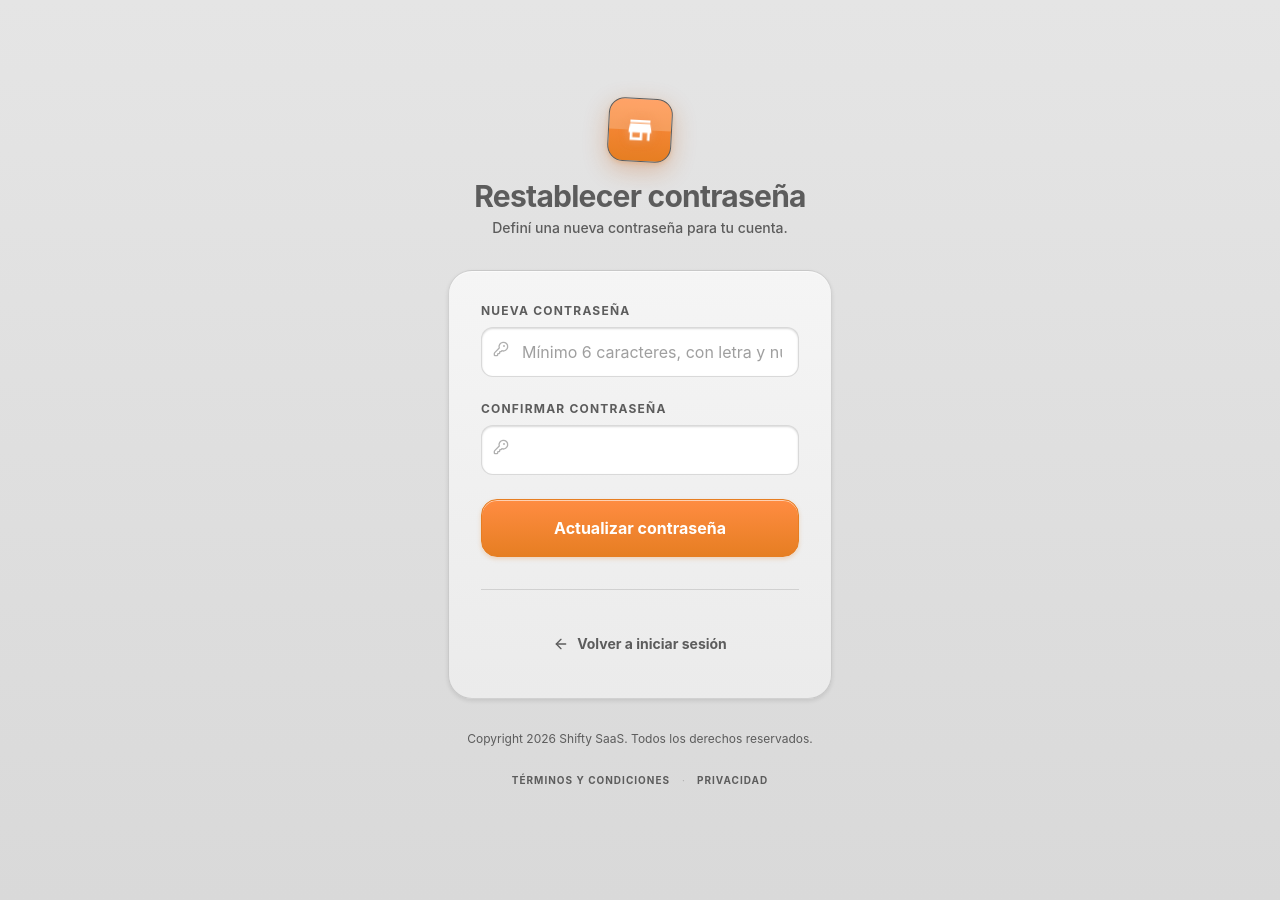
it: ResetPasswordPage › un 422 del servidor (clave común) muestra un texto útil, no el genérico
Type "password123" into the password field labelled "Nueva contraseña" at x=640, y=352, box [481,326,799,376]
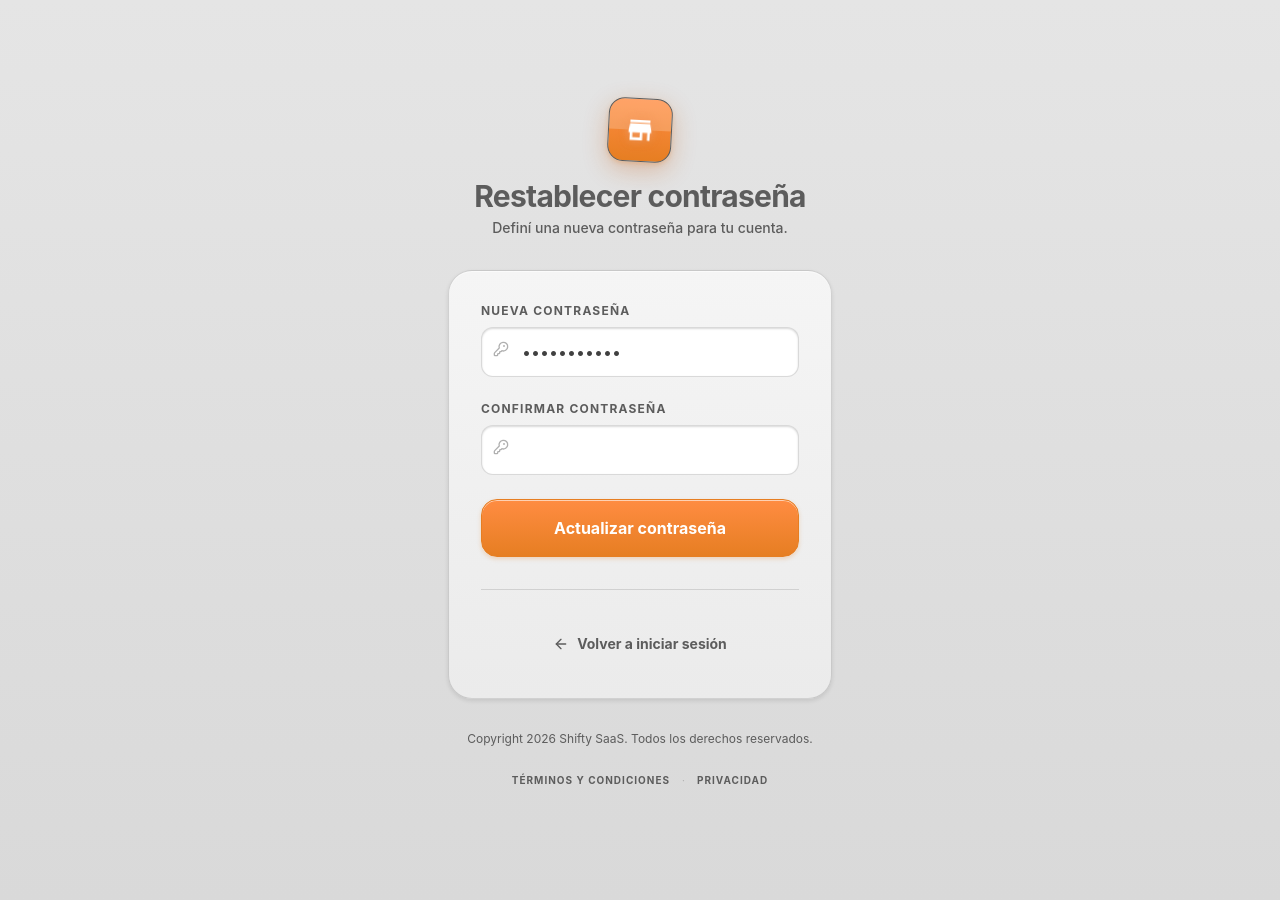
Type "password123" into the password field labelled "Confirmar contraseña" at x=640, y=450, box [481,424,799,474]
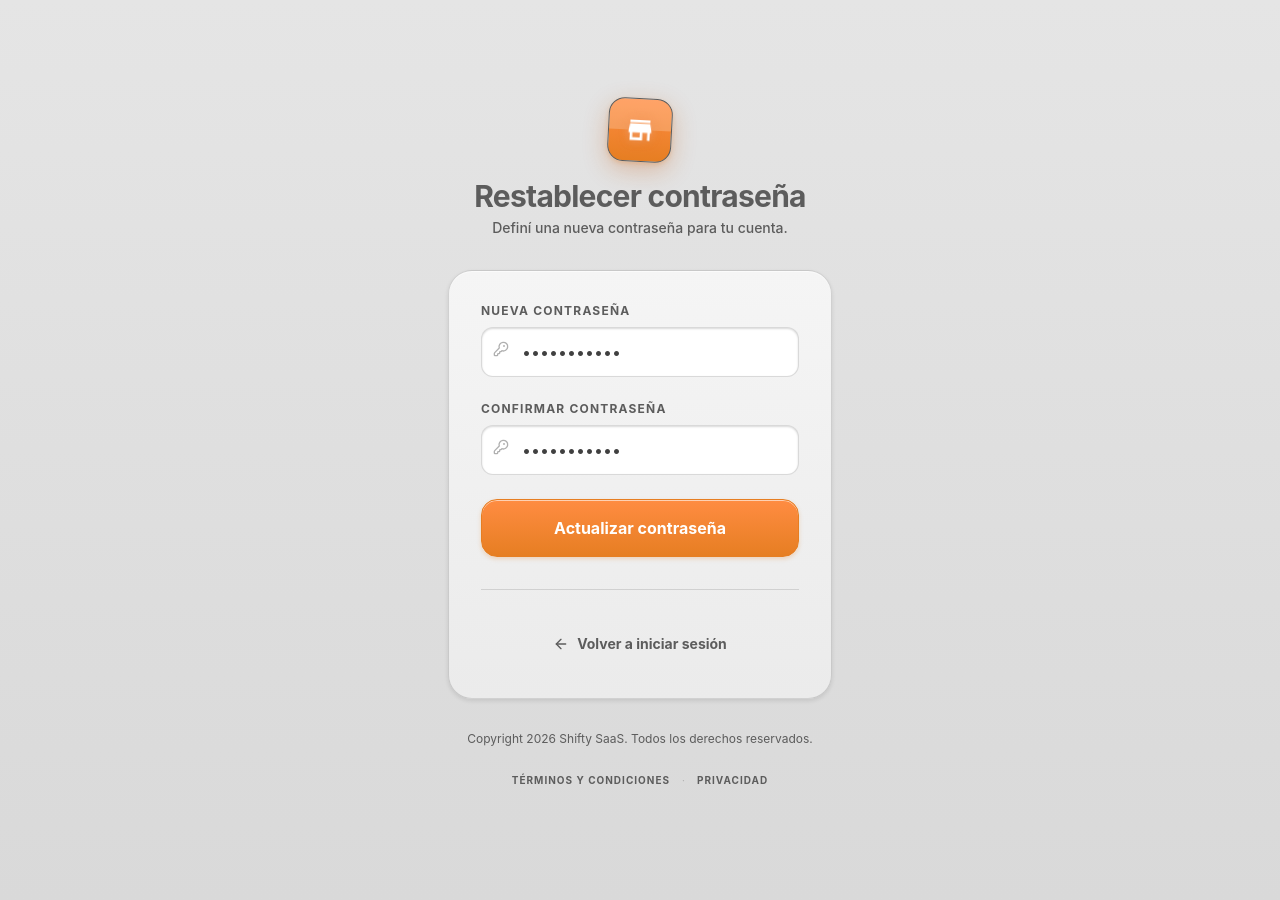
Submit the form "Actualizar contraseña", box [481,302,799,556]
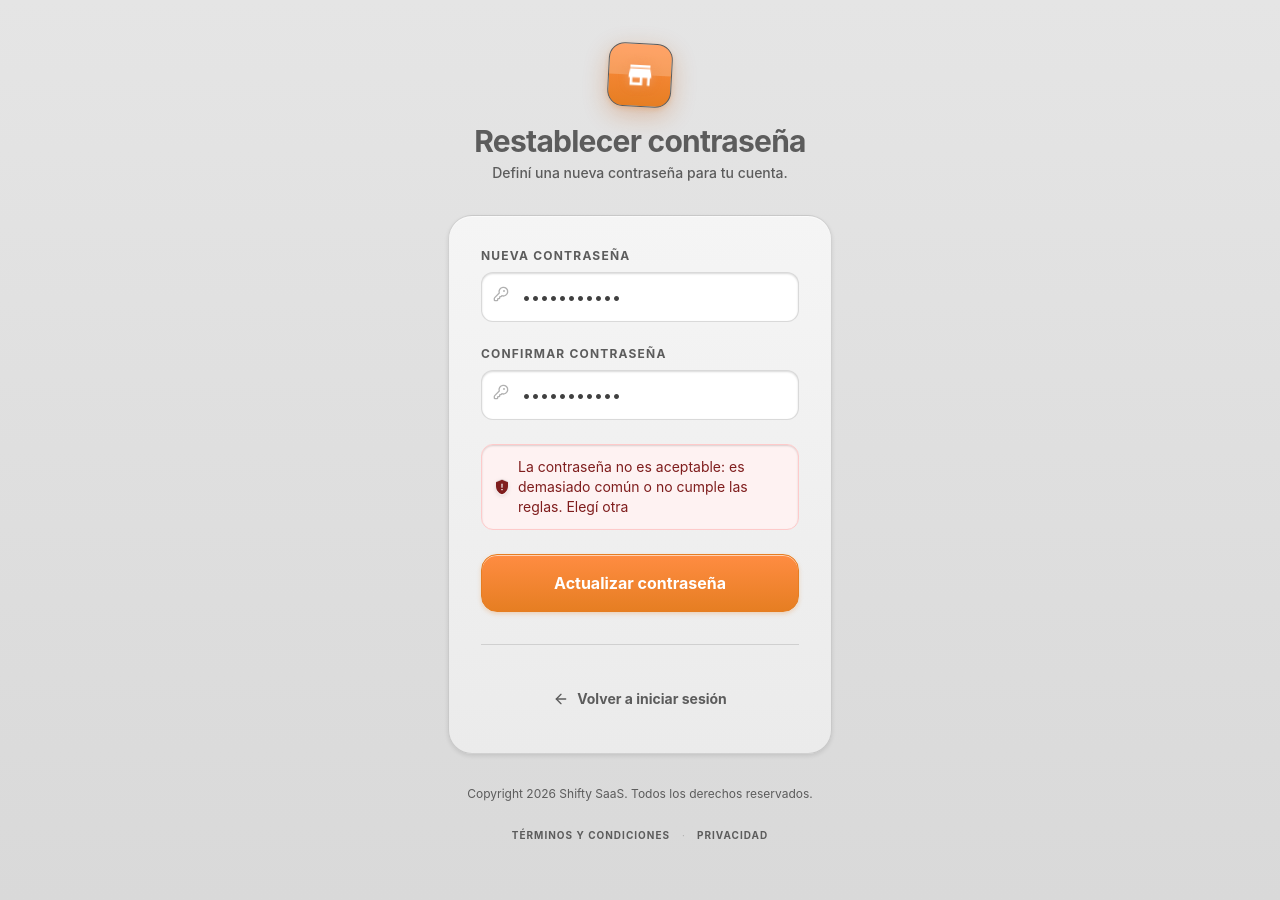
Now the message shows "La contraseña no es aceptable: es demasiado común o no cumple las reglas. Elegí otra", box [518,458,748,514]
